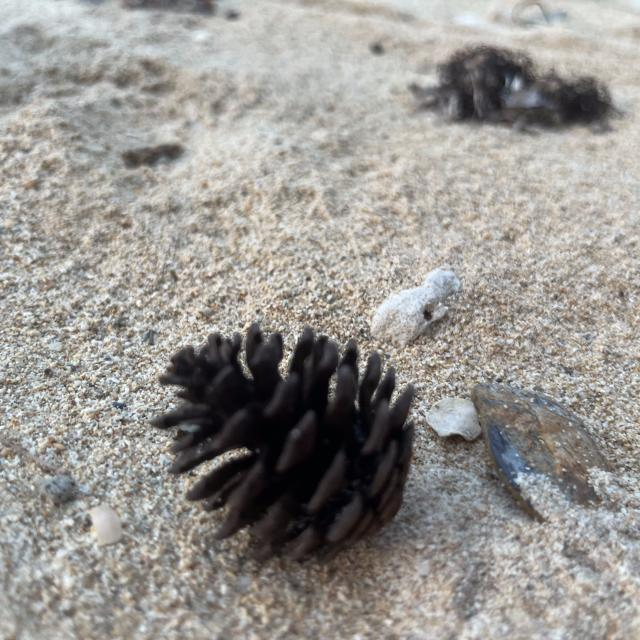coral: (365, 264, 467, 354)
pinecone: (154, 322, 420, 571)
seaweed: (409, 30, 606, 146)
